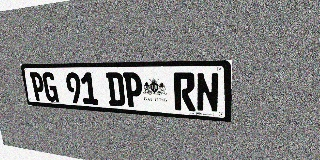1: (79, 72, 98, 105)
9: (65, 72, 83, 104)
D: (106, 72, 125, 107)
G: (42, 72, 59, 102)
N: (196, 72, 219, 113)
P: (123, 72, 143, 108), (29, 72, 46, 101)
R: (173, 72, 196, 111)
